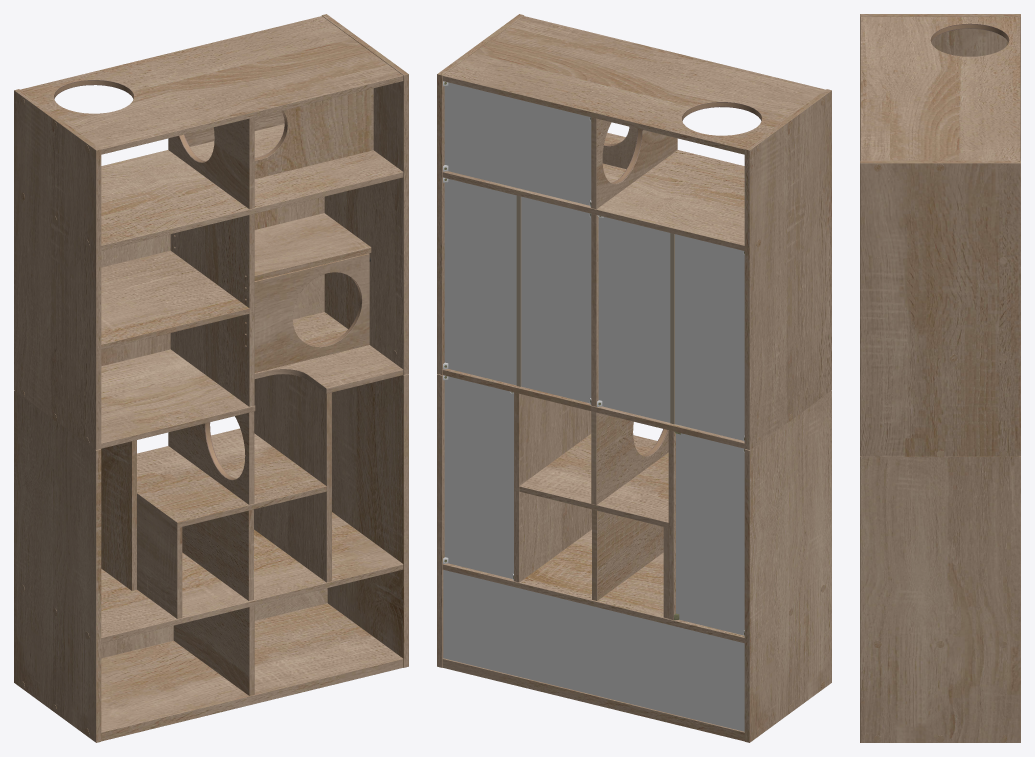
The picture shows the model from 3 angles, left to right: view 1: azimuth 30°, elevation 25°; view 2: azimuth 150°, elevation 25°; view 3: azimuth 270°, elevation 25°; orthographic projection. The views are drawn at different scales.
Parts seen in each view (by area): view 1: F506_G1016_1000N5; view 2: F506_G1016_1000N5; view 3: F506_G1016_1000N5.
Boxes of the visible parts, x1=… form: F506_G1016_1000N5: x1=14, y1=14, x2=408, y2=742; F506_G1016_1000N5: x1=437, y1=14, x2=831, y2=742; F506_G1016_1000N5: x1=860, y1=14, x2=1020, y2=742.
Bounding box in the file's own units: 0.901 × 1.63 × 0.41.
8 materials, 3 textured.
